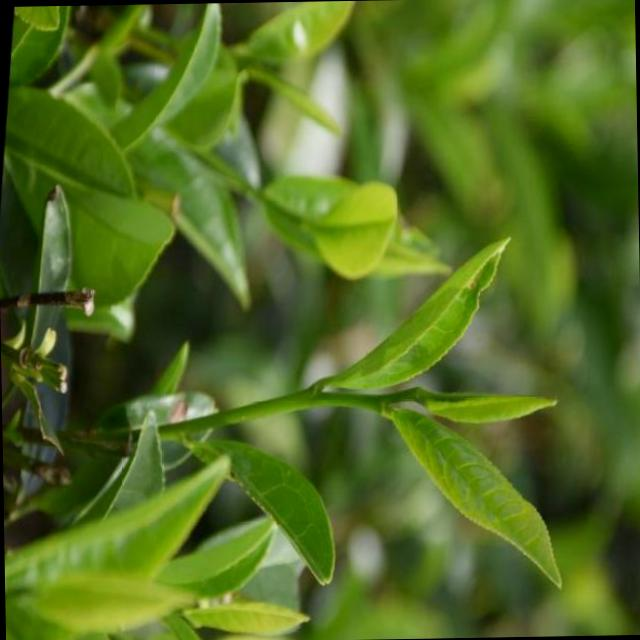Stem: (299, 390, 320, 405)
